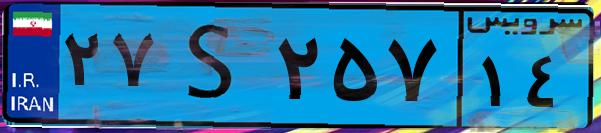1: (475, 38, 525, 113)
2: (270, 28, 330, 110), (57, 26, 110, 100)
4: (525, 38, 570, 115)
5: (330, 28, 385, 110)
7: (385, 28, 445, 110), (110, 28, 158, 98)
S: (158, 12, 270, 120)
